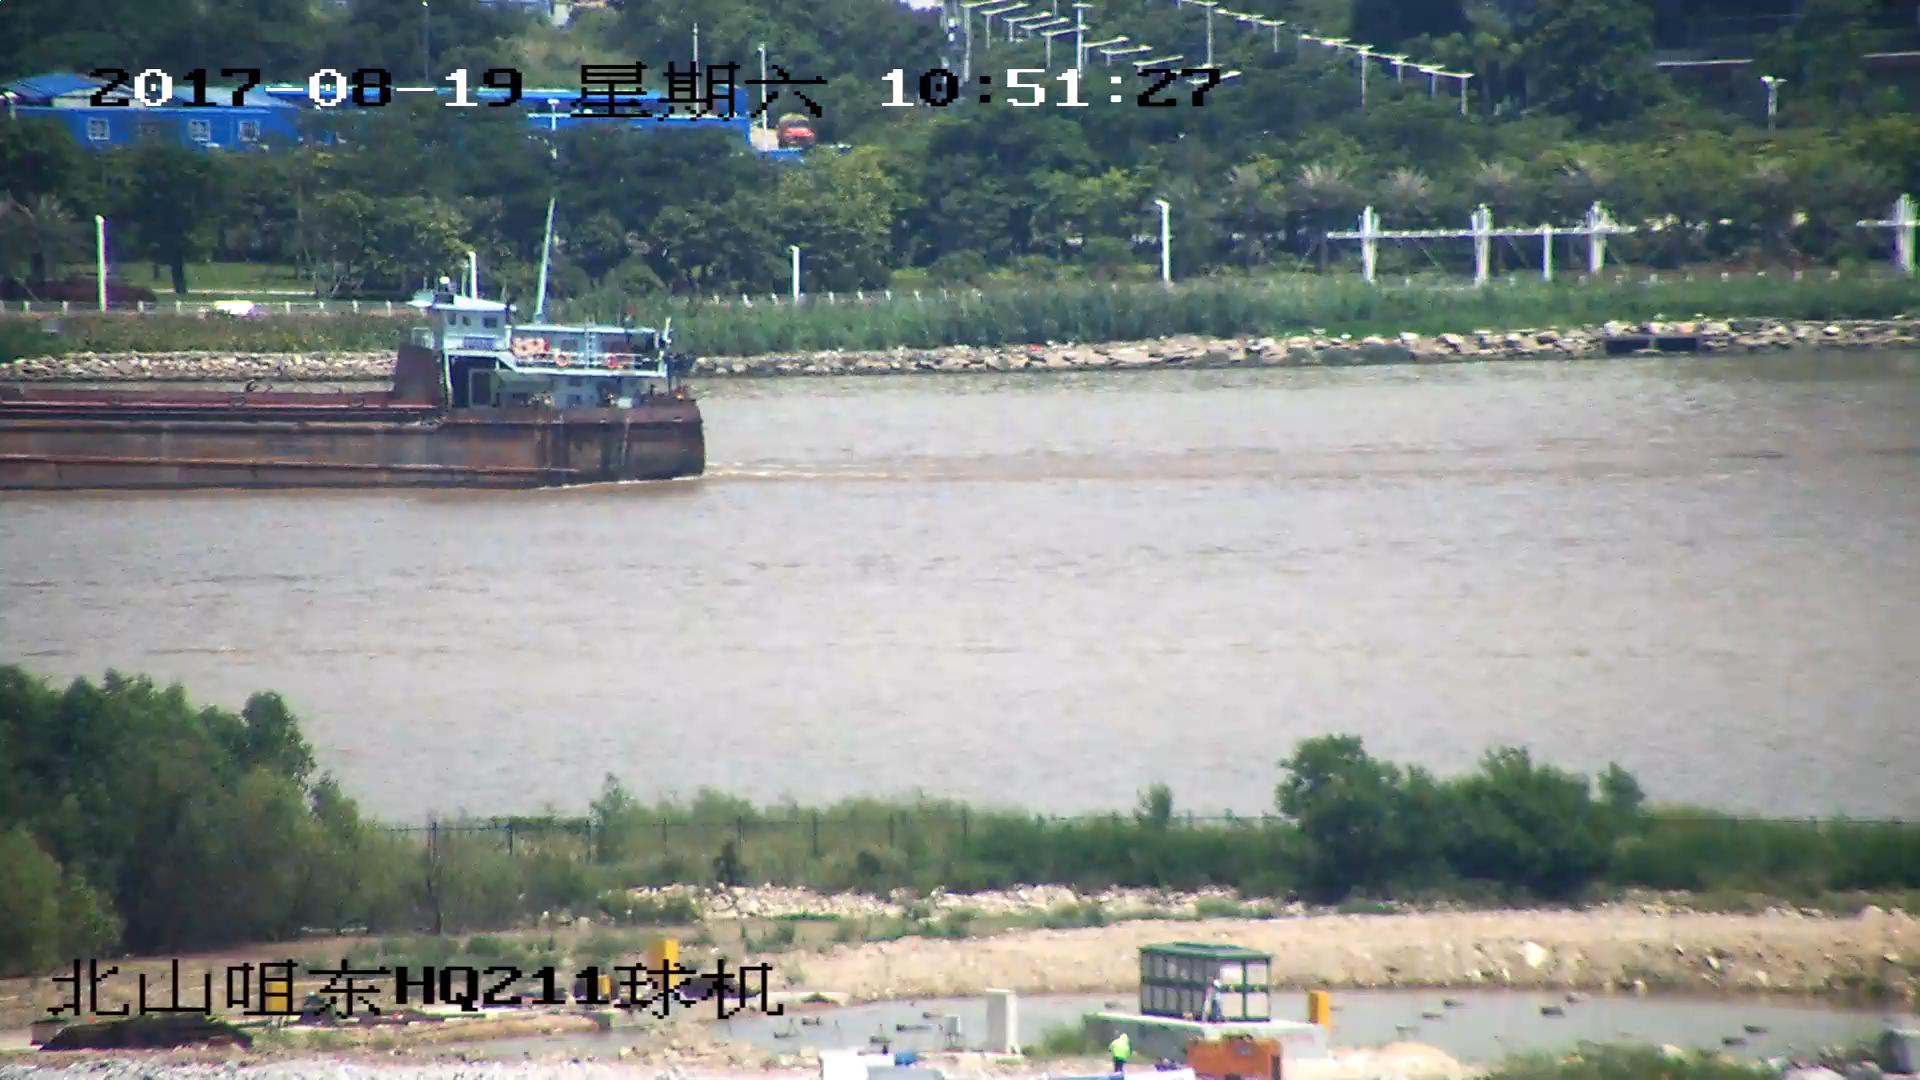Ship: (3, 276, 709, 491)
